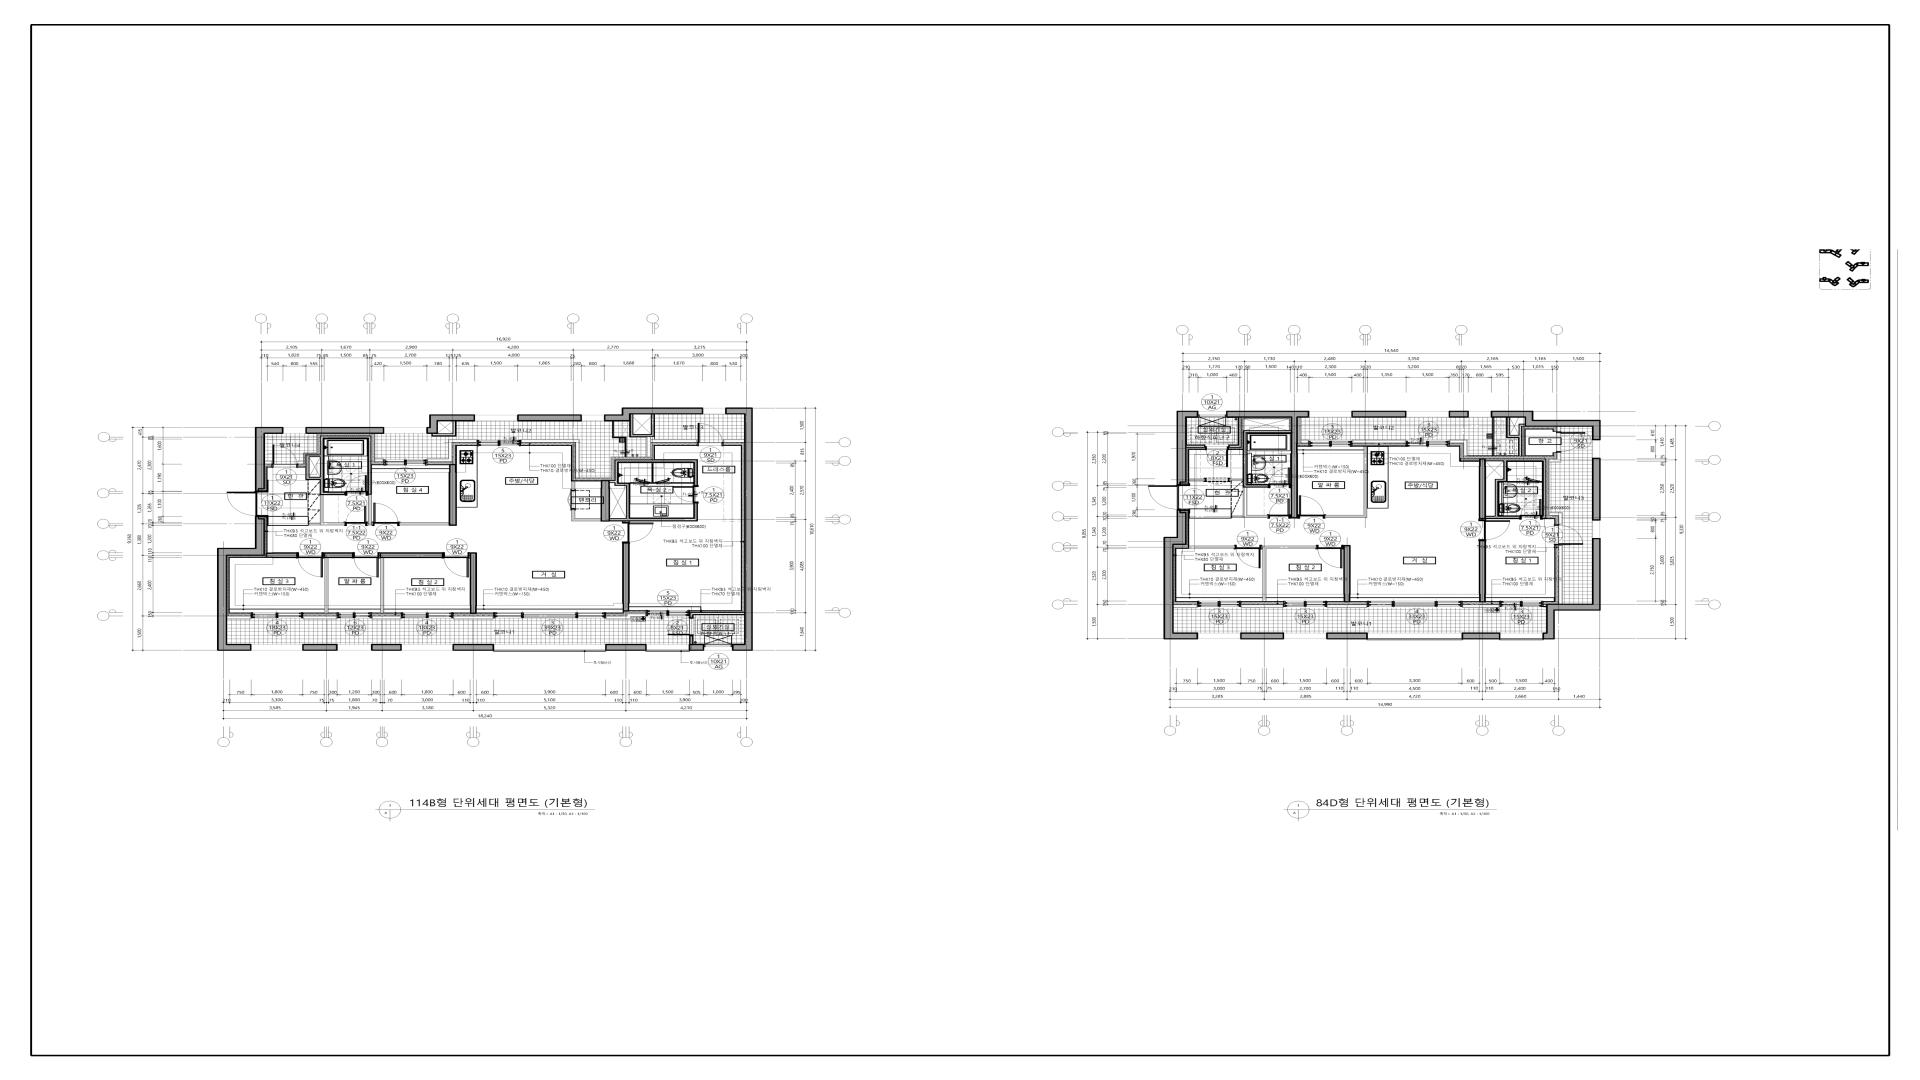door: (1149, 485, 1191, 510), (227, 492, 269, 516), (297, 553, 324, 578), (352, 553, 380, 578), (1478, 520, 1510, 541), (622, 522, 654, 543), (443, 553, 469, 578), (1316, 545, 1344, 568), (372, 502, 400, 526), (1553, 525, 1584, 546), (1236, 545, 1262, 568), (272, 444, 298, 468), (1298, 496, 1325, 518), (1556, 431, 1585, 452), (698, 423, 723, 447), (1205, 446, 1229, 467), (667, 617, 694, 636), (1519, 498, 1542, 520), (345, 475, 368, 496), (674, 485, 699, 504), (1269, 498, 1291, 518), (1269, 468, 1291, 488), (345, 506, 368, 526), (1205, 477, 1229, 485), (567, 491, 576, 509)
wall: (1226, 411, 1309, 518), (725, 407, 753, 651), (218, 516, 265, 651), (306, 435, 372, 525), (1543, 538, 1601, 640), (1229, 430, 1291, 518), (611, 459, 698, 521), (1163, 510, 1199, 640), (1486, 459, 1547, 520), (1491, 411, 1601, 440), (1325, 447, 1367, 518), (1262, 546, 1316, 601), (629, 414, 698, 458), (521, 439, 579, 479), (255, 427, 284, 491), (1176, 410, 1199, 485), (604, 407, 703, 422), (427, 439, 477, 462), (426, 414, 475, 434), (1549, 452, 1563, 525), (1506, 418, 1524, 456), (1592, 458, 1601, 521), (622, 543, 630, 612), (306, 427, 384, 434), (517, 414, 582, 422), (469, 553, 477, 615), (448, 464, 456, 526), (1478, 459, 1486, 520), (1478, 542, 1486, 601), (1228, 418, 1242, 448), (1344, 545, 1350, 603), (601, 481, 611, 522), (1352, 411, 1407, 418), (431, 422, 456, 436), (571, 509, 600, 521), (380, 553, 443, 558), (452, 644, 495, 651), (605, 644, 647, 651), (1240, 633, 1284, 640), (1449, 440, 1468, 456), (690, 612, 744, 617), (302, 644, 338, 651), (1327, 633, 1367, 640), (605, 613, 646, 620), (1461, 633, 1501, 640), (371, 644, 402, 651), (1559, 546, 1563, 604), (324, 558, 328, 613), (1300, 418, 1308, 443), (266, 553, 297, 558), (454, 616, 493, 620), (381, 558, 384, 613), (324, 553, 352, 558), (1352, 440, 1406, 443), (1449, 411, 1469, 418), (303, 616, 336, 620), (400, 522, 448, 525), (688, 644, 704, 651), (1189, 546, 1234, 549), (372, 616, 401, 620), (1241, 605, 1283, 608), (1327, 605, 1367, 608), (1462, 605, 1499, 608), (1174, 604, 1197, 608), (227, 616, 251, 620), (723, 439, 744, 443), (1187, 444, 1205, 448), (1460, 459, 1480, 462), (458, 522, 476, 525), (1189, 479, 1205, 481), (571, 481, 575, 491), (690, 636, 694, 644), (375, 459, 384, 462), (298, 460, 303, 464), (265, 462, 272, 464), (1557, 427, 1561, 431), (1543, 604, 1547, 608)
window: (1367, 633, 1461, 641), (493, 612, 605, 618), (495, 645, 605, 651), (1367, 601, 1462, 607), (251, 612, 303, 618), (401, 612, 454, 618), (1501, 633, 1543, 641), (1308, 440, 1352, 447), (1406, 440, 1449, 447), (646, 609, 690, 616), (384, 459, 427, 465), (477, 440, 521, 447), (647, 645, 688, 651), (385, 427, 426, 434), (252, 645, 302, 650), (402, 645, 452, 650), (336, 612, 372, 618), (1197, 601, 1241, 607), (1283, 601, 1327, 607), (1499, 601, 1543, 607), (1309, 411, 1352, 417), (1407, 411, 1449, 417), (475, 415, 517, 421), (1284, 633, 1327, 638), (1199, 633, 1240, 638), (704, 644, 732, 650), (1199, 411, 1226, 418), (338, 645, 371, 650), (703, 407, 725, 414), (284, 427, 306, 434), (582, 415, 604, 421), (1593, 440, 1600, 458), (1593, 521, 1600, 538), (1469, 411, 1490, 417)
